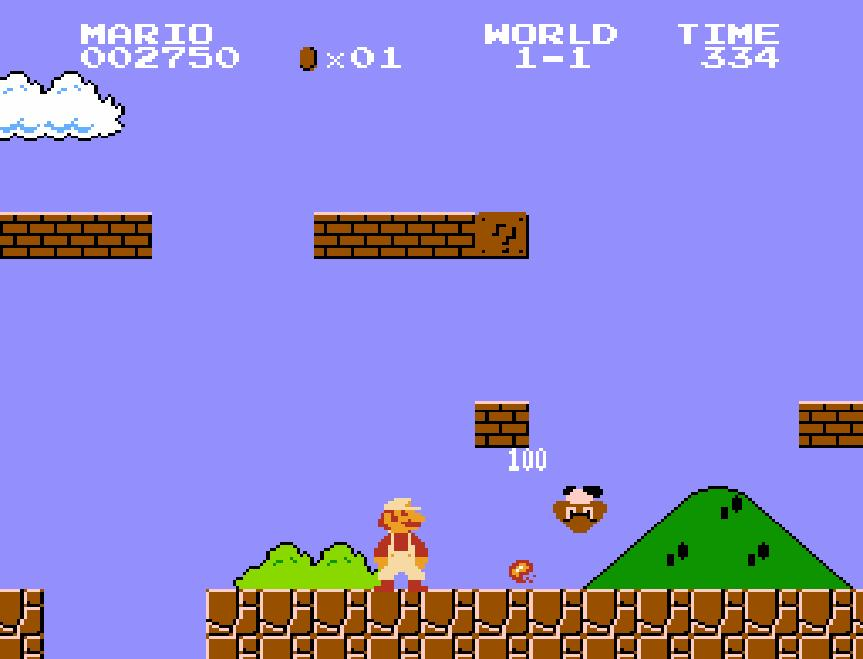fire_mario: (372, 496, 430, 594)
